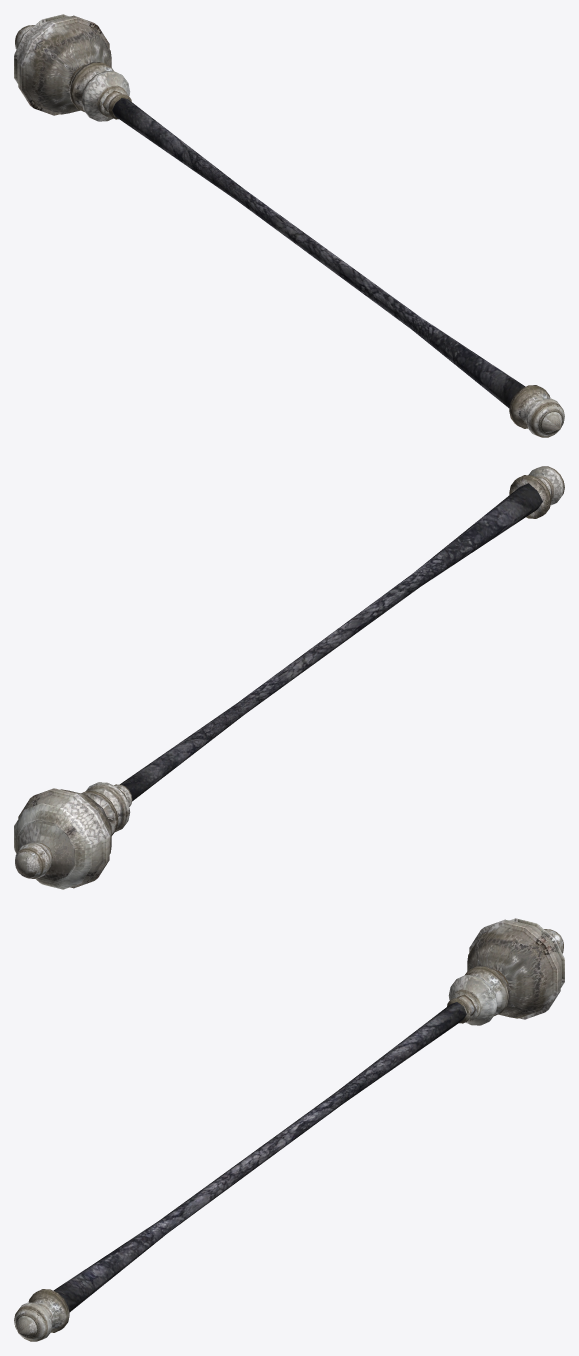
Rendered from whstaff.glb.
The picture shows the model from 3 angles, top to bottom: view 1: azimuth 30°, elevation 25°; view 2: azimuth 150°, elevation 25°; view 3: azimuth 330°, elevation 25°; orthographic projection.
Visible parts, largest first — view 1: defaultobject; view 2: defaultobject; view 3: defaultobject.
Part boxes in pixels (x1,y1,x2,y2): defaultobject: (14,14,564,437); defaultobject: (14,466,564,889); defaultobject: (14,918,564,1341).
Size of the model in its own units: 1 by 1 by 10.65.
1 material, 1 textured.
